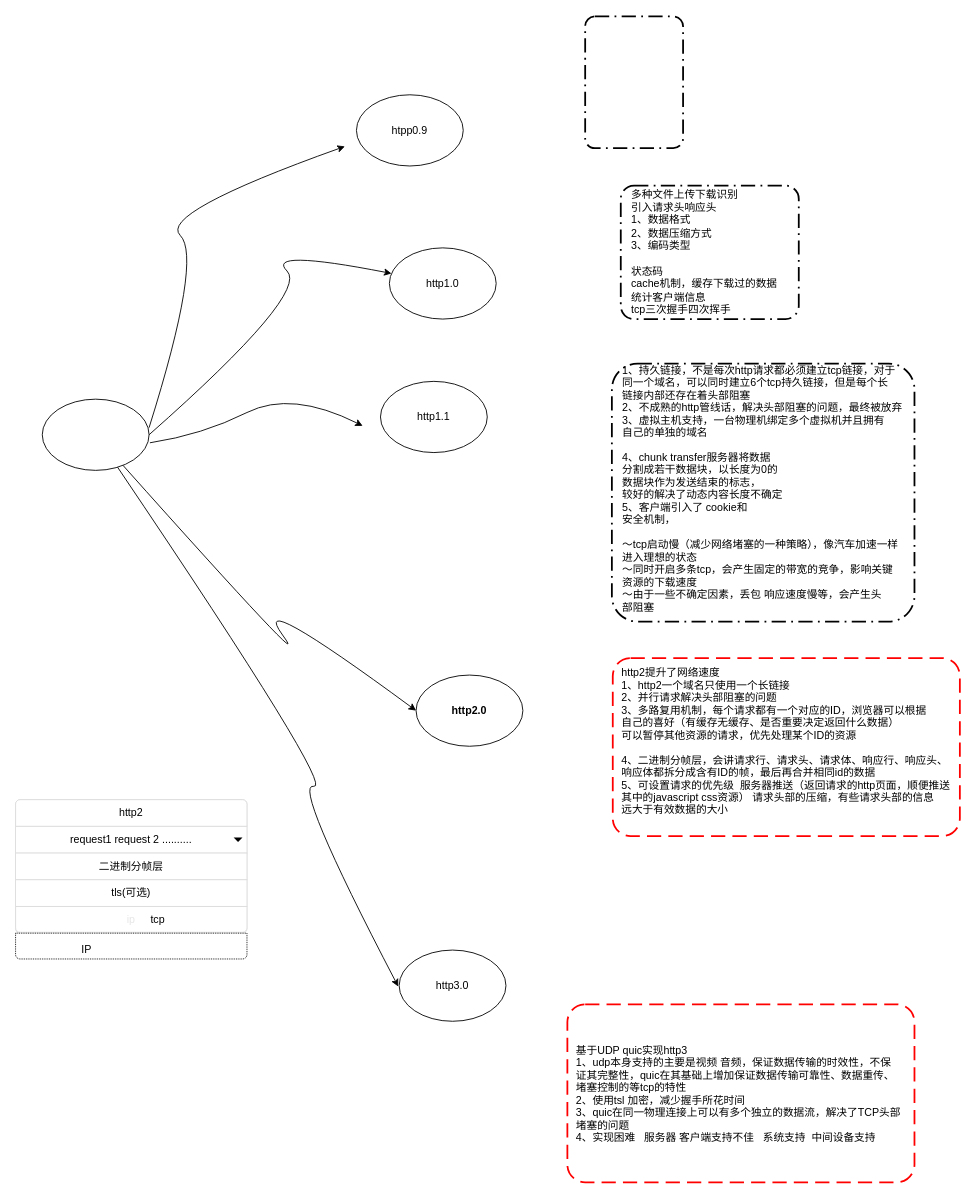
This 976x1198 diagram has some shape labels left out. The centre of each missing label's shape, as x and y in pixels:
"http发展史" goes at point 95,434.
"请求方式单一get 文件诶行单一 get" goes at point 634,82.
